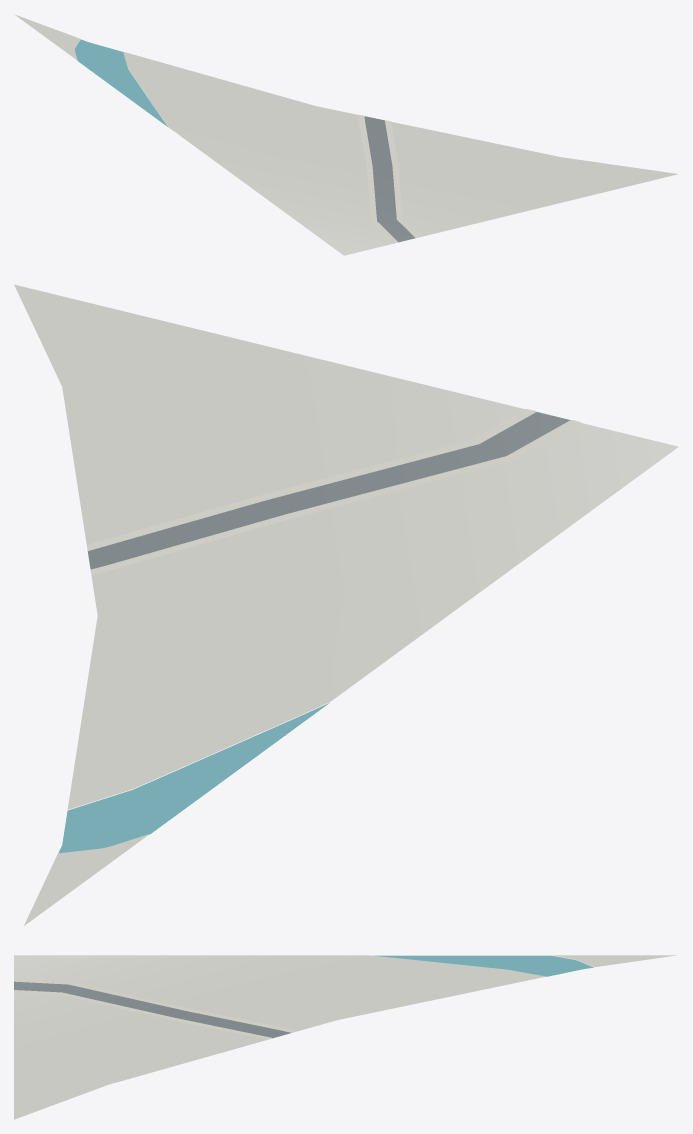
3 views of the same model, one above another, from view 1: azimuth 30°, elevation 25°; view 2: azimuth 150°, elevation 25°; view 3: azimuth 270°, elevation 25° (orthographic). The views are drawn at different scales.
Parts seen in each view (by area): view 1: city; view 2: city; view 3: city.
Boxes of the visible parts, left/top/right/bottom form: city: left=14, top=14, right=678, bottom=255; city: left=14, top=284, right=678, bottom=925; city: left=14, top=955, right=676, bottom=1119.
Bounding box in the file's own units: 194 × 0.4 × 332.
